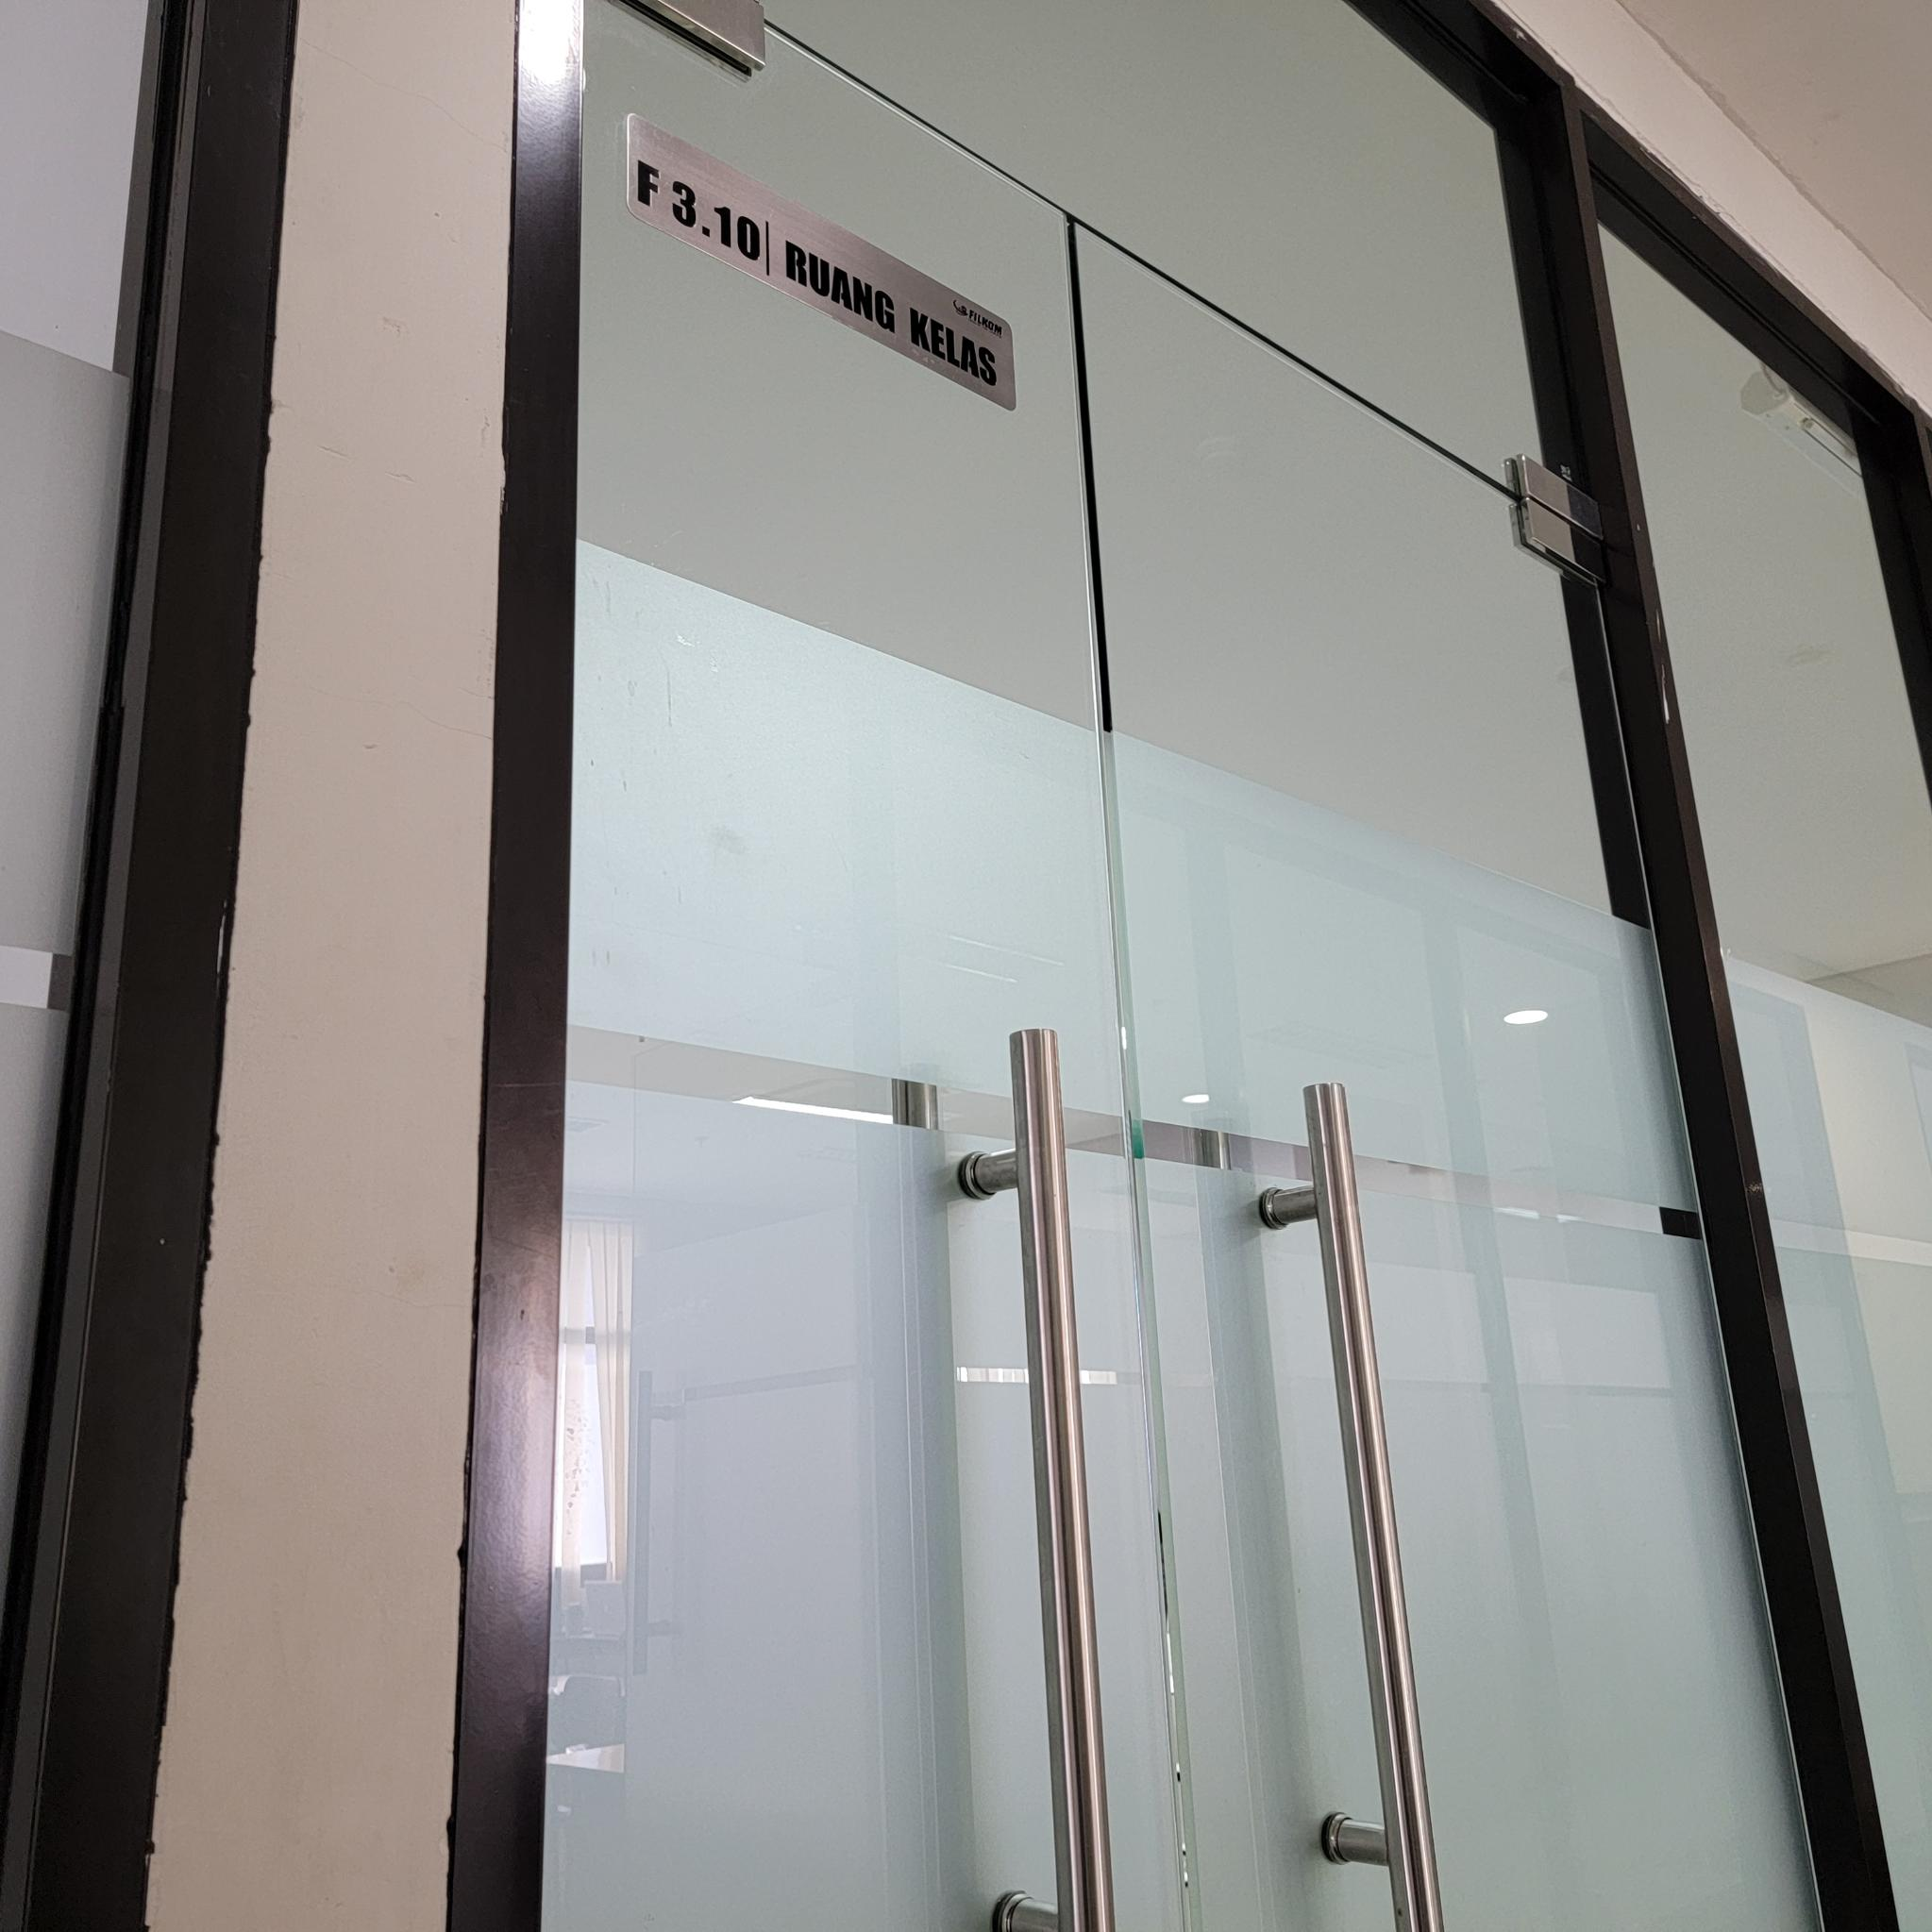plate: (626, 110, 1016, 414)
